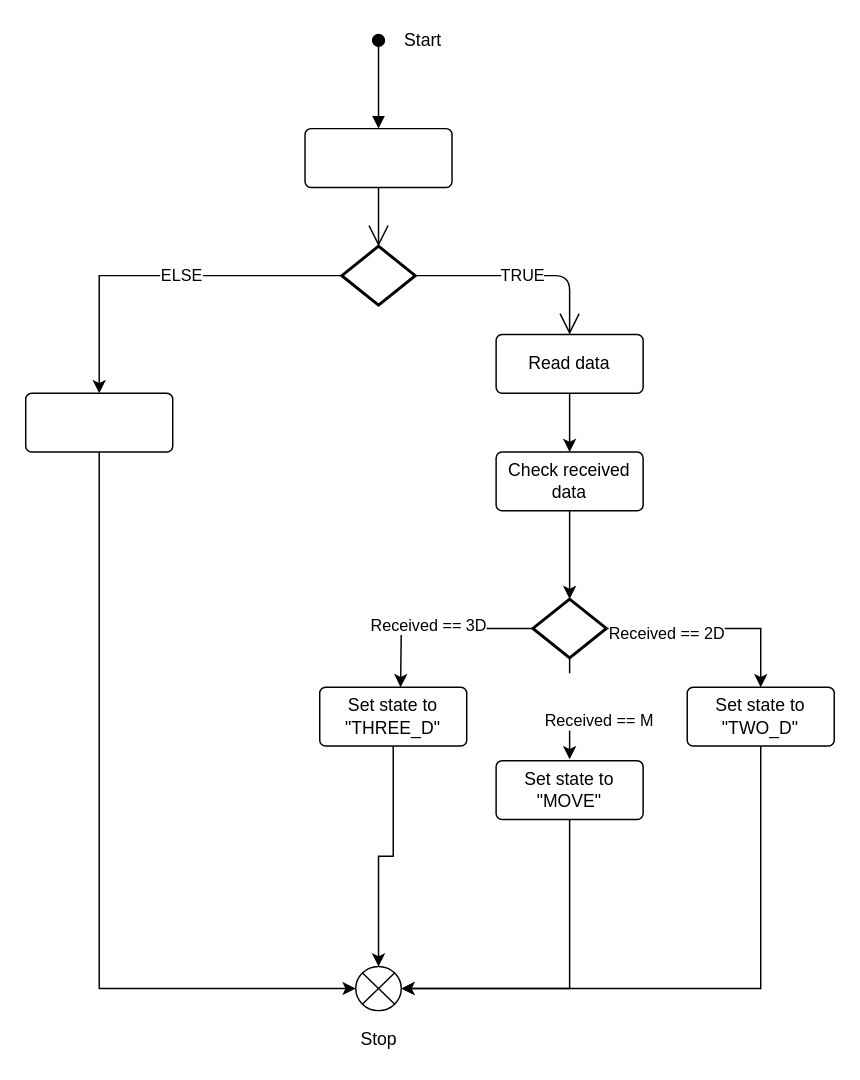
Image size: 860x1080. Some labels were removed from this diagram. The shapes that lost their labels are listed below. From the top down, each one's centre as x and y in pixels, then its label:
point 378,157: Check serial availability
point 98,422: Set state to "PAUSE"
